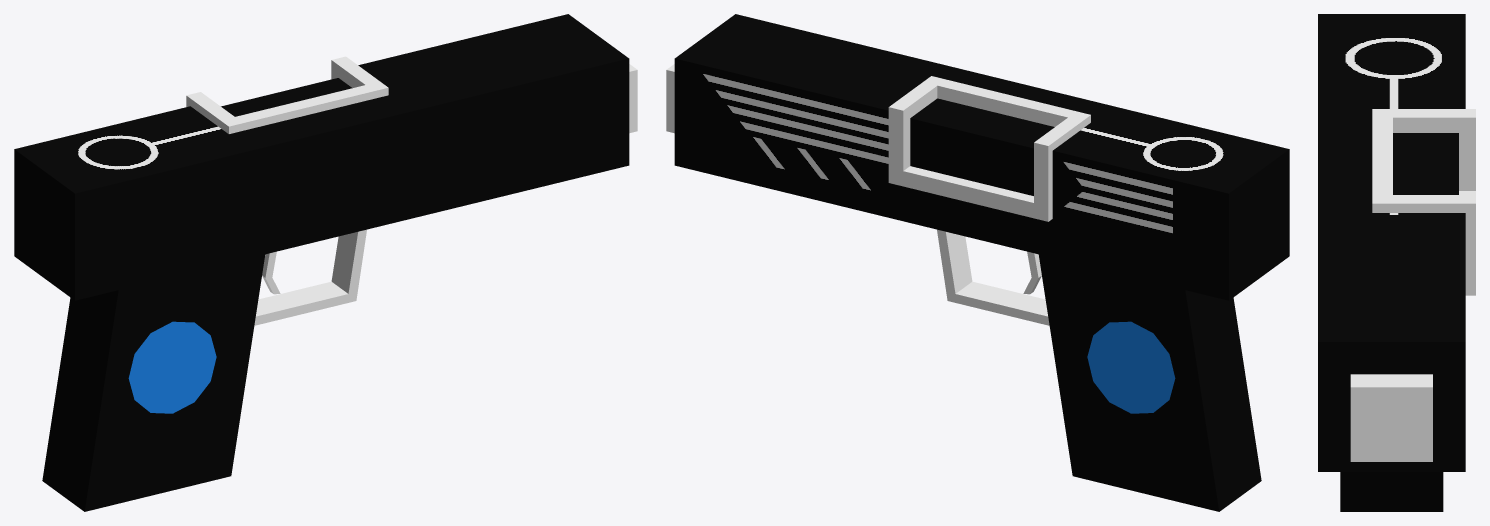
Rendered from Test_Pistol.fbx.
The picture shows the model from 3 angles, left to right: view 1: azimuth 30°, elevation 25°; view 2: azimuth 150°, elevation 25°; view 3: azimuth 270°, elevation 25°; orthographic projection. The views are drawn at different scales.
Parts seen in each view (by area): view 1: Pistol, PistolReload; view 2: Pistol, PistolReload; view 3: Pistol, PistolReload.
Boxes of the visible parts, x1,y1,x2,y2 form: Pistol: (14,14,637,511); PistolReload: (221,78,352,116); Pistol: (666,14,1289,511); PistolReload: (910,98,1054,195); Pistol: (1318,14,1475,511); PistolReload: (1393,133,1458,194).
Bounding box in the file's own units: 78.57 × 43.96 × 15.36.
